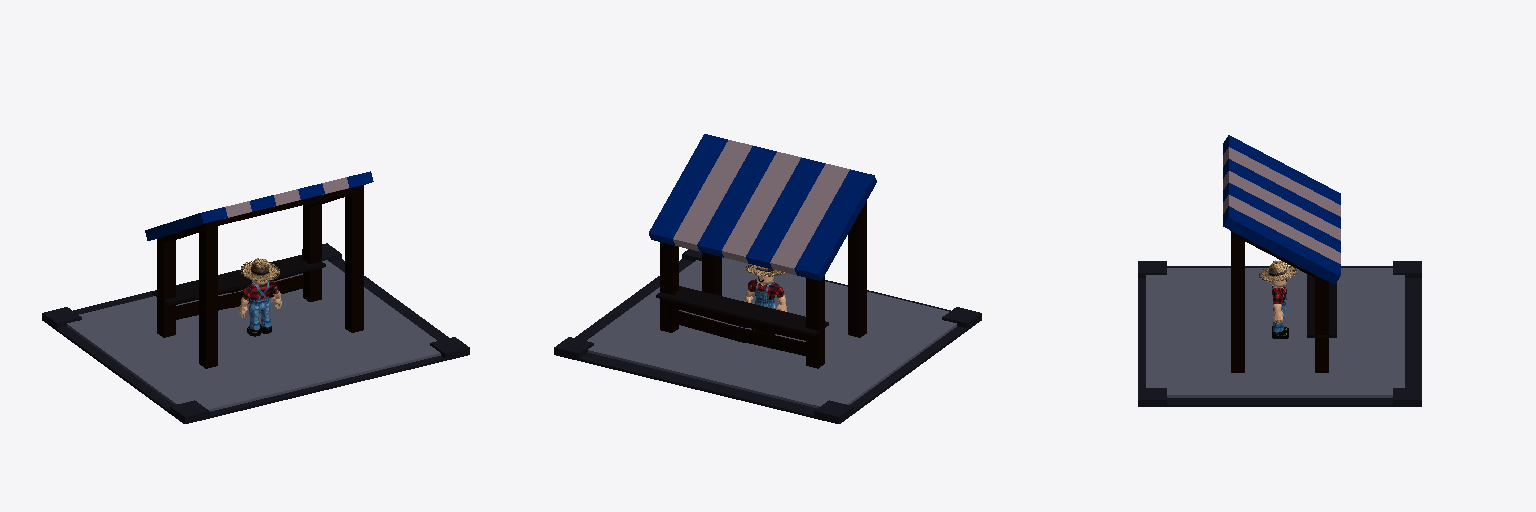
The picture shows the model from 3 angles: view 1: azimuth 30°, elevation 25°; view 2: azimuth 150°, elevation 25°; view 3: azimuth 270°, elevation 25°; orthographic projection.
Visible parts, largest first — view 1: Baseplate6, Baseplate5, Part14, Part15, Part12, Part10, Part7, Part1, Part19, Handle1, Part16, Baseplate2 (+1 smaller); view 2: Baseplate6, Baseplate5, Part1, Part3, Part13, Part18, Part8, Part2, Part6, Part7, Part14, Part12 (+7 smaller); view 3: Baseplate6, Baseplate5, Part13, Part15, Part1, Part8, Part2, Part3, Part18, Part6, Part10, Part7 (+3 smaller).
Boxes of the visible parts, x1=… form: Baseplate6: x1=67, y1=260, x2=440, y2=411; Baseplate5: x1=42, y1=254, x2=459, y2=423; Part14: x1=199, y1=226, x2=217, y2=368; Part15: x1=345, y1=191, x2=363, y2=332; Part12: x1=157, y1=238, x2=175, y2=337; Part10: x1=303, y1=204, x2=321, y2=301; Part7: x1=152, y1=255, x2=325, y2=304; Part1: x1=145, y1=207, x2=227, y2=240; Part19: x1=203, y1=185, x2=363, y2=228; Handle1: x1=241, y1=258, x2=279, y2=281; Part16: x1=176, y1=291, x2=242, y2=319; Baseplate2: x1=170, y1=400, x2=209, y2=423; Baseplate6: x1=587, y1=257, x2=956, y2=408; Baseplate5: x1=558, y1=259, x2=972, y2=423; Part1: x1=794, y1=169, x2=876, y2=280; Part3: x1=770, y1=164, x2=849, y2=274; Part13: x1=649, y1=134, x2=727, y2=245; Part18: x1=697, y1=146, x2=776, y2=257; Part8: x1=722, y1=152, x2=801, y2=262; Part2: x1=746, y1=158, x2=825, y2=269; Part6: x1=673, y1=140, x2=752, y2=251; Part7: x1=656, y1=286, x2=828, y2=335; Part14: x1=848, y1=201, x2=866, y2=337; Part12: x1=806, y1=276, x2=824, y2=368; Baseplate6: x1=1146, y1=268, x2=1404, y2=397; Baseplate5: x1=1138, y1=266, x2=1421, y2=406; Part13: x1=1223, y1=206, x2=1340, y2=284; Part15: x1=1231, y1=233, x2=1244, y2=372; Part1: x1=1223, y1=135, x2=1340, y2=204; Part8: x1=1223, y1=171, x2=1340, y2=240; Part2: x1=1223, y1=159, x2=1340, y2=228; Part3: x1=1223, y1=147, x2=1340, y2=216; Part18: x1=1223, y1=183, x2=1340, y2=252; Part6: x1=1223, y1=194, x2=1340, y2=263; Part10: x1=1315, y1=275, x2=1328, y2=372; Part7: x1=1307, y1=274, x2=1336, y2=337.
Bounding box in the file's own units: 23.44 × 12.85 × 20.28.
8 materials, 2 textured.